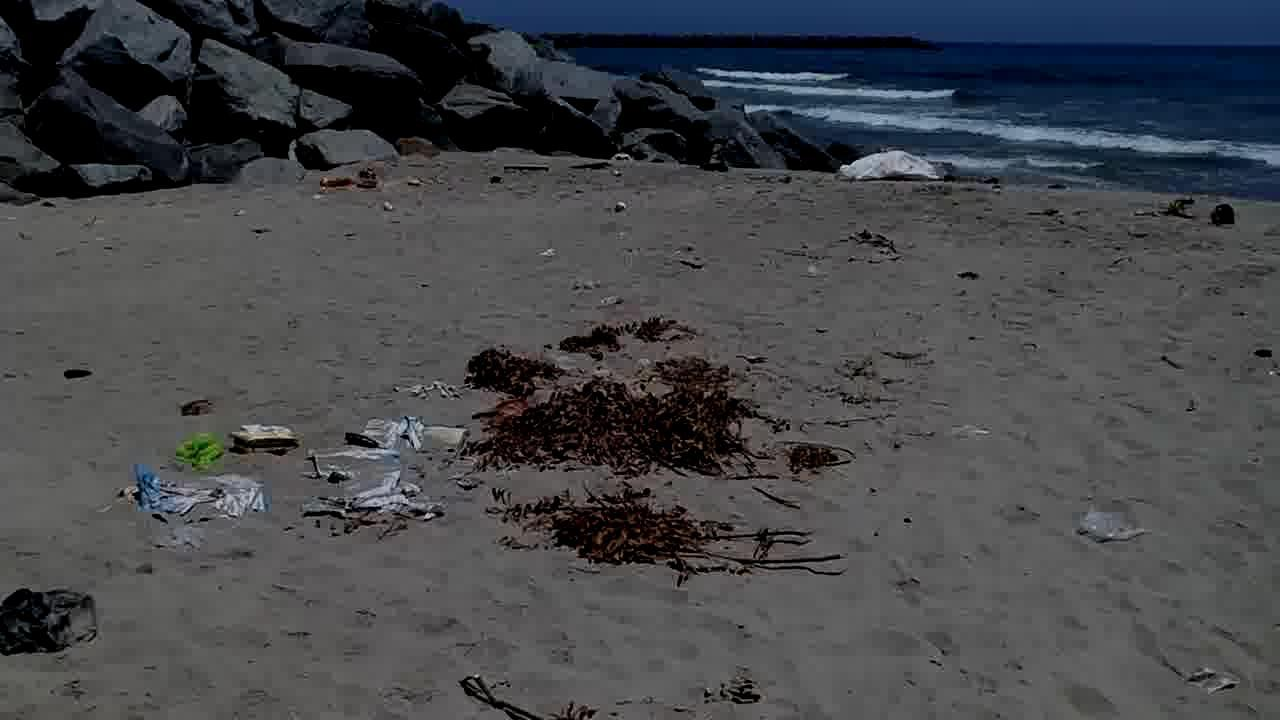obj: (461, 312, 859, 592), (92, 412, 474, 553), (444, 664, 761, 718), (757, 225, 910, 280), (0, 584, 101, 656), (828, 150, 957, 187), (1066, 498, 1158, 548), (228, 422, 298, 457), (325, 166, 397, 196), (174, 431, 226, 470), (1130, 199, 1197, 221), (1208, 202, 1241, 229), (60, 369, 111, 382)
sand/background: (0, 0, 1279, 214)
